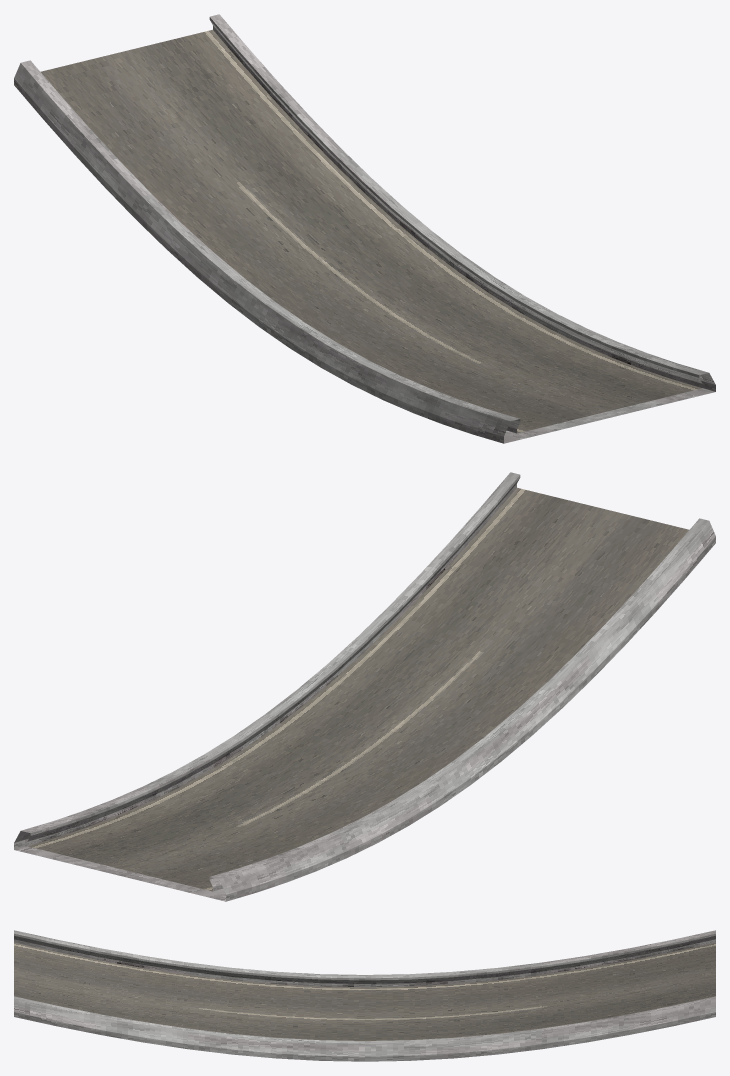
The model's file is road-Straight-BiSlopeDown-BiSlopeUp-Even-Center-Size4.glb.
3 views of the same model, one above another, from view 1: azimuth 30°, elevation 25°; view 2: azimuth 150°, elevation 25°; view 3: azimuth 270°, elevation 25° (orthographic). The views are drawn at different scales.
Parts seen in each view (by area): view 1: road-Straight-BiSlopeDown-BiSlopeUp-Even-Center-Size4; view 2: road-Straight-BiSlopeDown-BiSlopeUp-Even-Center-Size4; view 3: road-Straight-BiSlopeDown-BiSlopeUp-Even-Center-Size4.
Part boxes in pixels (bbox=[...]): road-Straight-BiSlopeDown-BiSlopeUp-Even-Center-Size4: bbox=[14, 14, 715, 443]; road-Straight-BiSlopeDown-BiSlopeUp-Even-Center-Size4: bbox=[14, 472, 715, 901]; road-Straight-BiSlopeDown-BiSlopeUp-Even-Center-Size4: bbox=[14, 930, 715, 1061].
Bounding box in the file's own units: 1 × 0.375 × 4.
2 materials, 2 textured.
